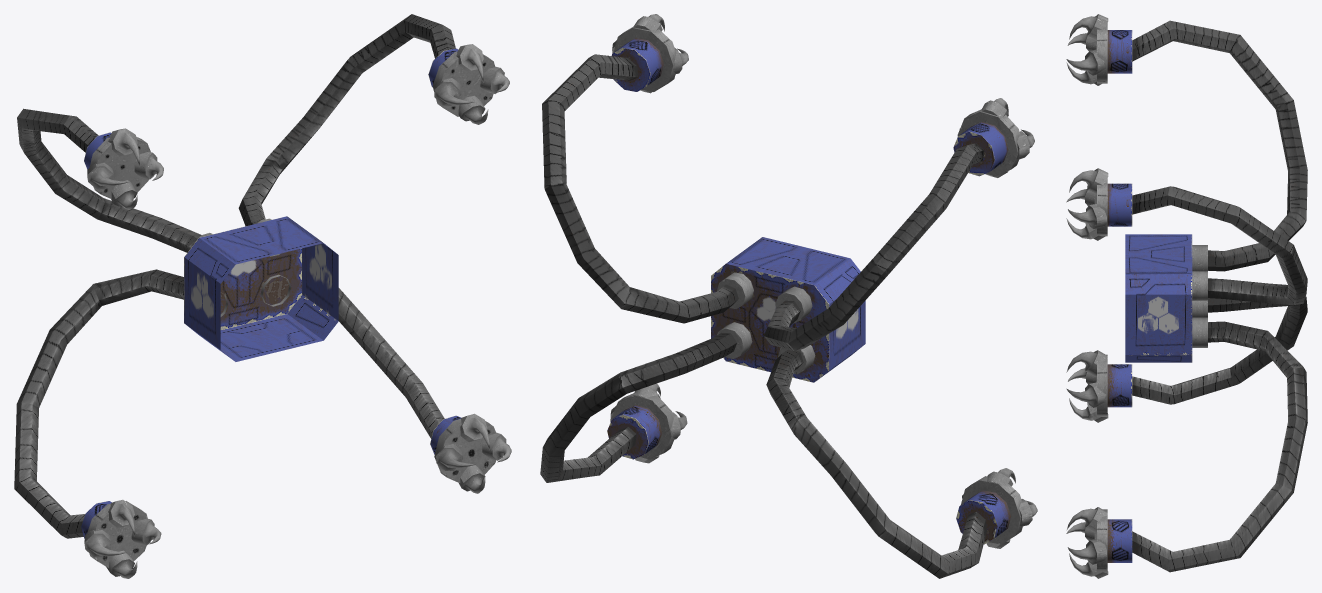
The model's file is BACK_OCTOPUS_ARMS.fbx.
3 views of the same model, side by side, from view 1: azimuth 30°, elevation 25°; view 2: azimuth 150°, elevation 25°; view 3: azimuth 270°, elevation 25° (orthographic). The views are drawn at different scales.
Parts seen in each view (by area): view 1: BACK_OCTOPUS; view 2: BACK_OCTOPUS; view 3: BACK_OCTOPUS.
Boxes of the visible parts, x1,y1,x2,y2 form: BACK_OCTOPUS: [14, 14, 511, 578]; BACK_OCTOPUS: [540, 14, 1037, 578]; BACK_OCTOPUS: [1066, 14, 1307, 578].
Bounding box in the file's own units: 0.0841 × 0.0852 × 0.0458.
